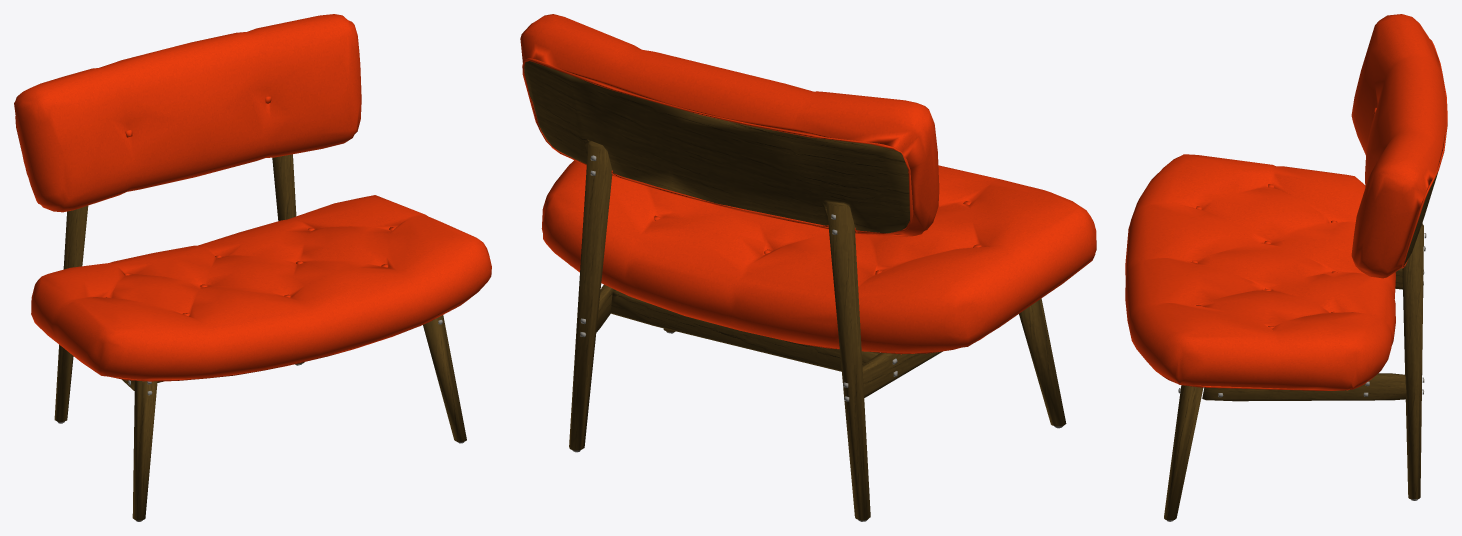
File: SheenChair-lowest.glb
The picture shows the model from 3 angles, left to right: view 1: azimuth 30°, elevation 25°; view 2: azimuth 150°, elevation 25°; view 3: azimuth 270°, elevation 25°; orthographic projection. The views are drawn at different scales.
Visible parts, largest first — view 1: SheenChair_fabric, SheenChair_wood; view 2: SheenChair_fabric, SheenChair_wood; view 3: SheenChair_fabric, SheenChair_wood.
Part boxes in pixels (x1,y1,x2,y2): SheenChair_fabric: [14, 14, 491, 381]; SheenChair_wood: [54, 154, 466, 520]; SheenChair_fabric: [520, 14, 1096, 354]; SheenChair_wood: [524, 61, 1066, 520]; SheenChair_fabric: [1125, 14, 1447, 390]; SheenChair_wood: [1164, 173, 1437, 520].
Bounding box in the file's own units: 0.8259 × 0.6855 × 0.569.
4 materials, 3 textured.
